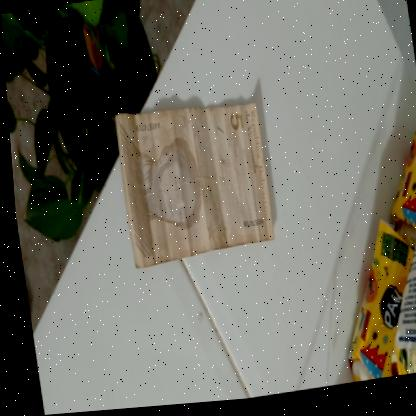five-front-vef: (109, 96, 273, 272)
